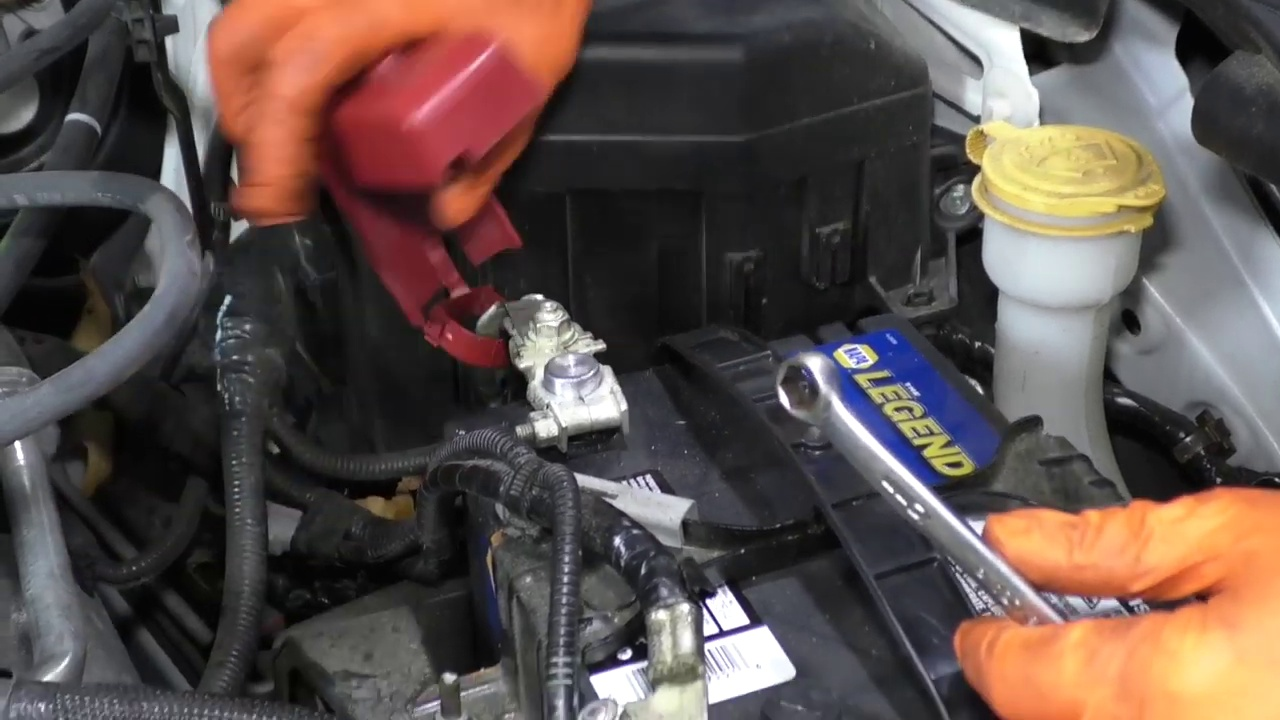battery: (433, 307, 1210, 720)
pos_connected: (325, 109, 643, 443)
